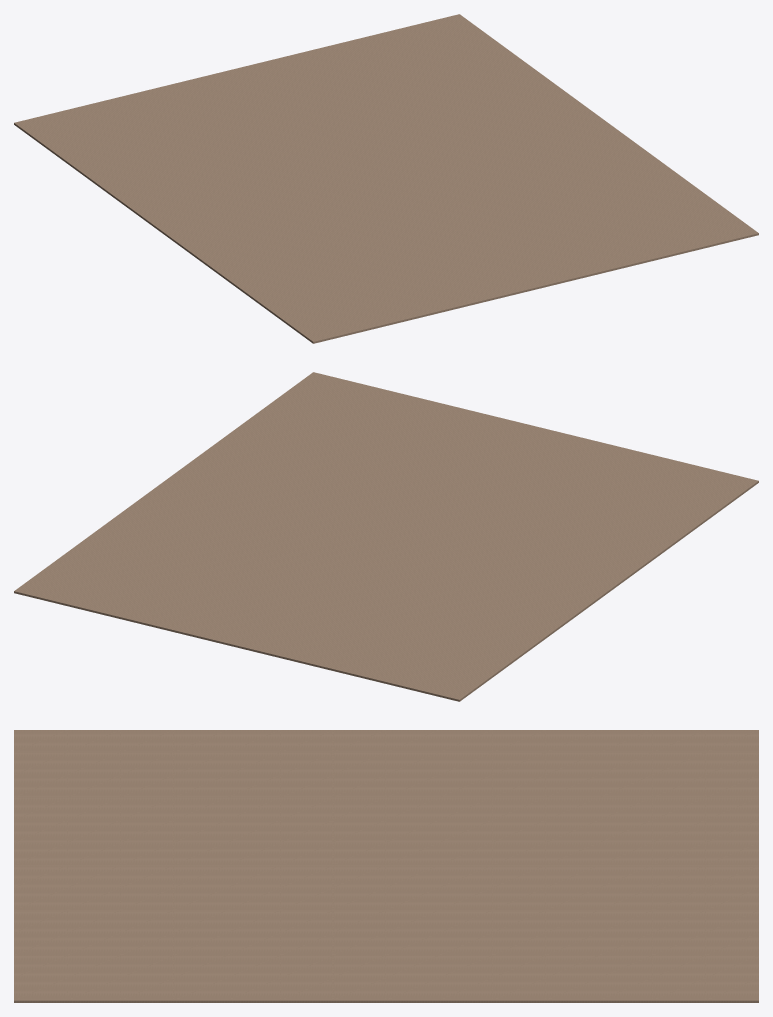
Rendered from DreadWorksLevel3Ground.obj.
The picture shows the model from 3 angles, top to bottom: view 1: azimuth 30°, elevation 25°; view 2: azimuth 150°, elevation 25°; view 3: azimuth 270°, elevation 25°; orthographic projection. The views are drawn at different scales.
Size of the model in its own units: 240 by 1 by 279.
Materials: 2 (2 with a texture image).
